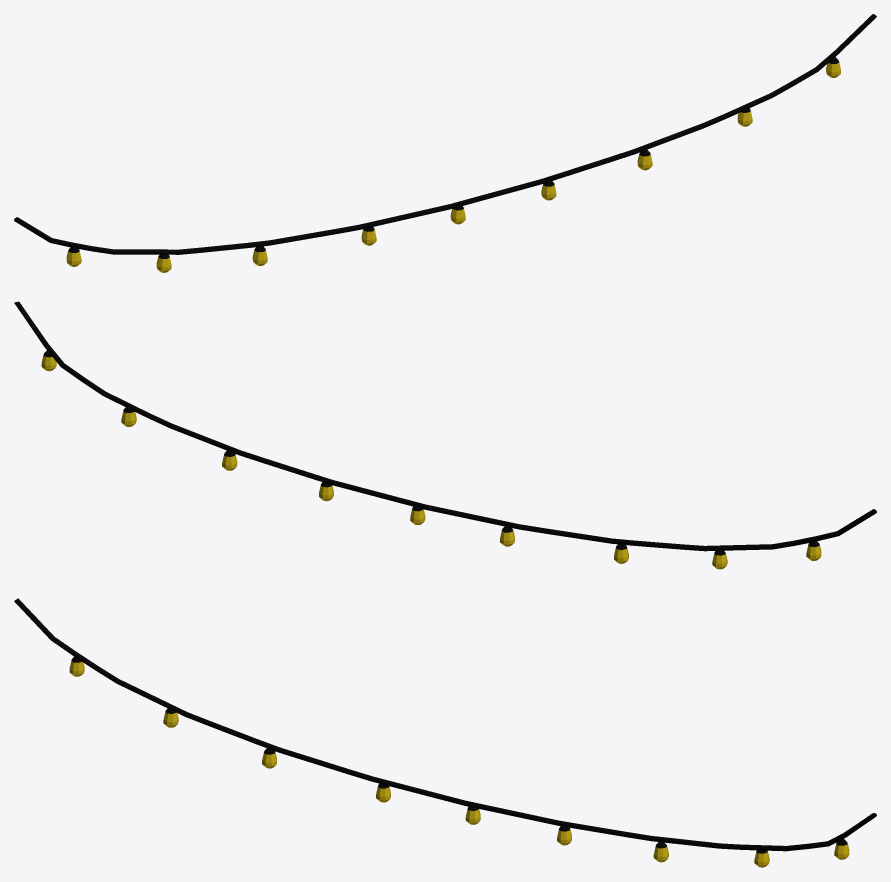
File: Guirnaldas.fbx
3 views of the same model, one above another, from view 1: azimuth 30°, elevation 25°; view 2: azimuth 150°, elevation 25°; view 3: azimuth 330°, elevation 25° (orthographic).
Parts seen in each view (by area): view 1: Cable, Lampara; view 2: Cable, Lampara; view 3: Cable, Lampara.
Boxes of the visible parts, bbox=[...] form: Cable: bbox=[14, 14, 876, 254]; Lampara: bbox=[66, 57, 840, 272]; Cable: bbox=[14, 301, 876, 551]; Lampara: bbox=[41, 350, 821, 569]; Cable: bbox=[14, 598, 876, 851]; Lampara: bbox=[69, 656, 849, 867].
Bounding box in the file's own units: 1681 × 222 × 47.63.
